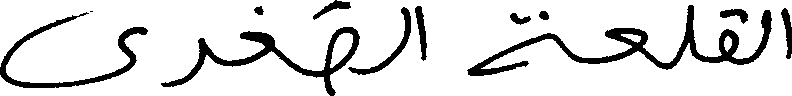ا: (414, 3, 428, 61), (777, 6, 789, 60)
ة: (464, 9, 553, 76)
ر: (160, 36, 215, 87)
ص: (305, 0, 360, 94)
ع: (603, 26, 647, 63)
غ: (238, 1, 284, 65)
ق: (716, 6, 738, 64)
ل: (395, 4, 412, 58), (680, 3, 694, 60), (758, 8, 770, 57)
ى: (0, 9, 146, 88)
